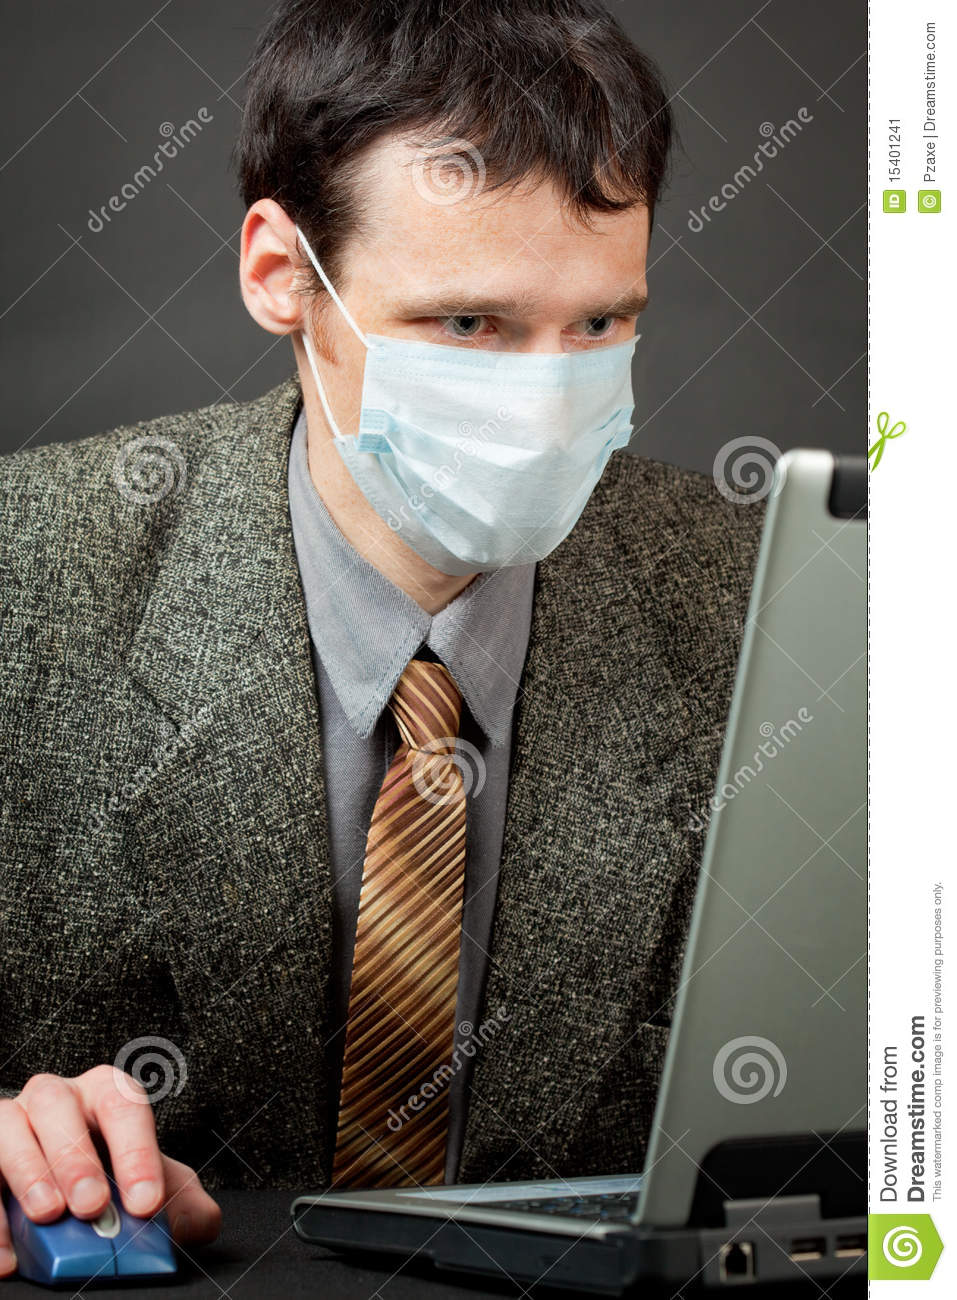mask: (332, 339, 643, 576)
